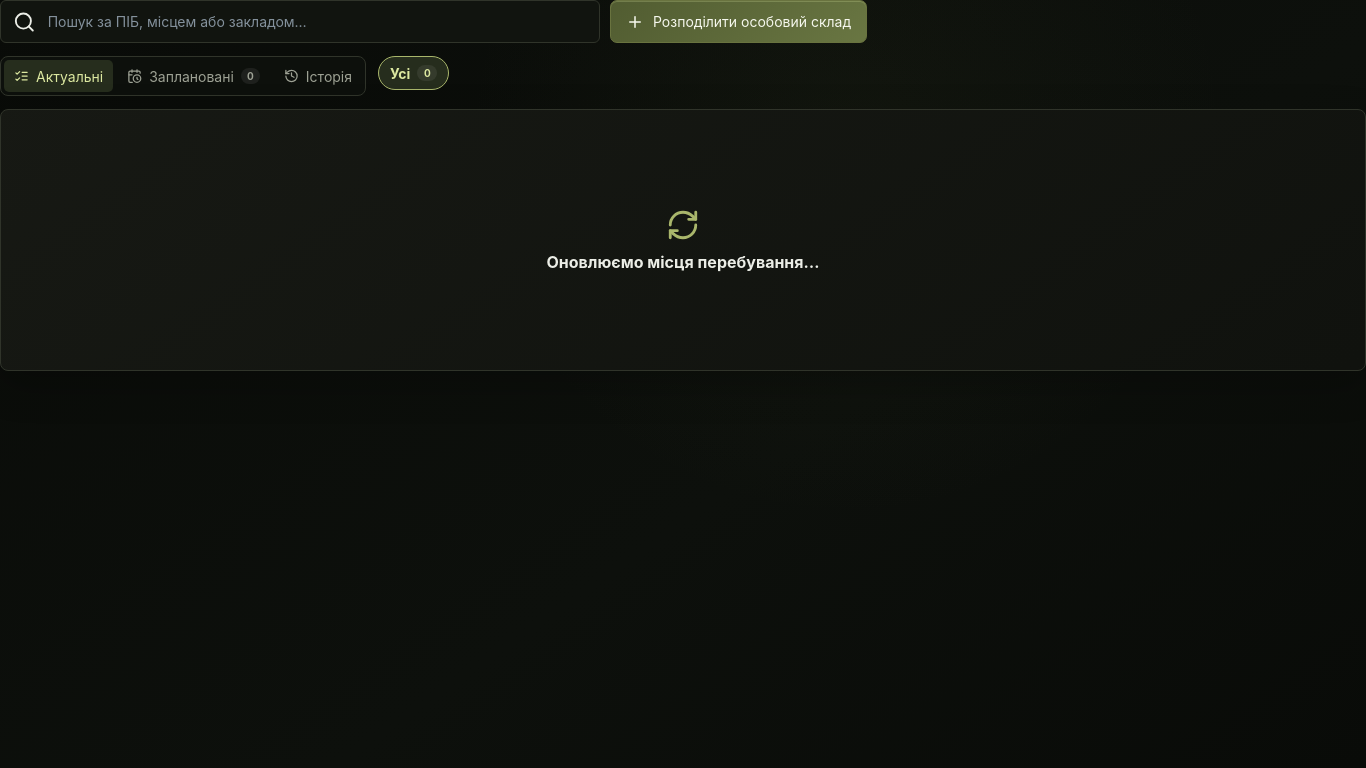
Test case: PersonnelControl › does not save training without its required completion date
Click the button "Розподілити особовий склад".
click(739, 22)  # box [610,0,867,43]
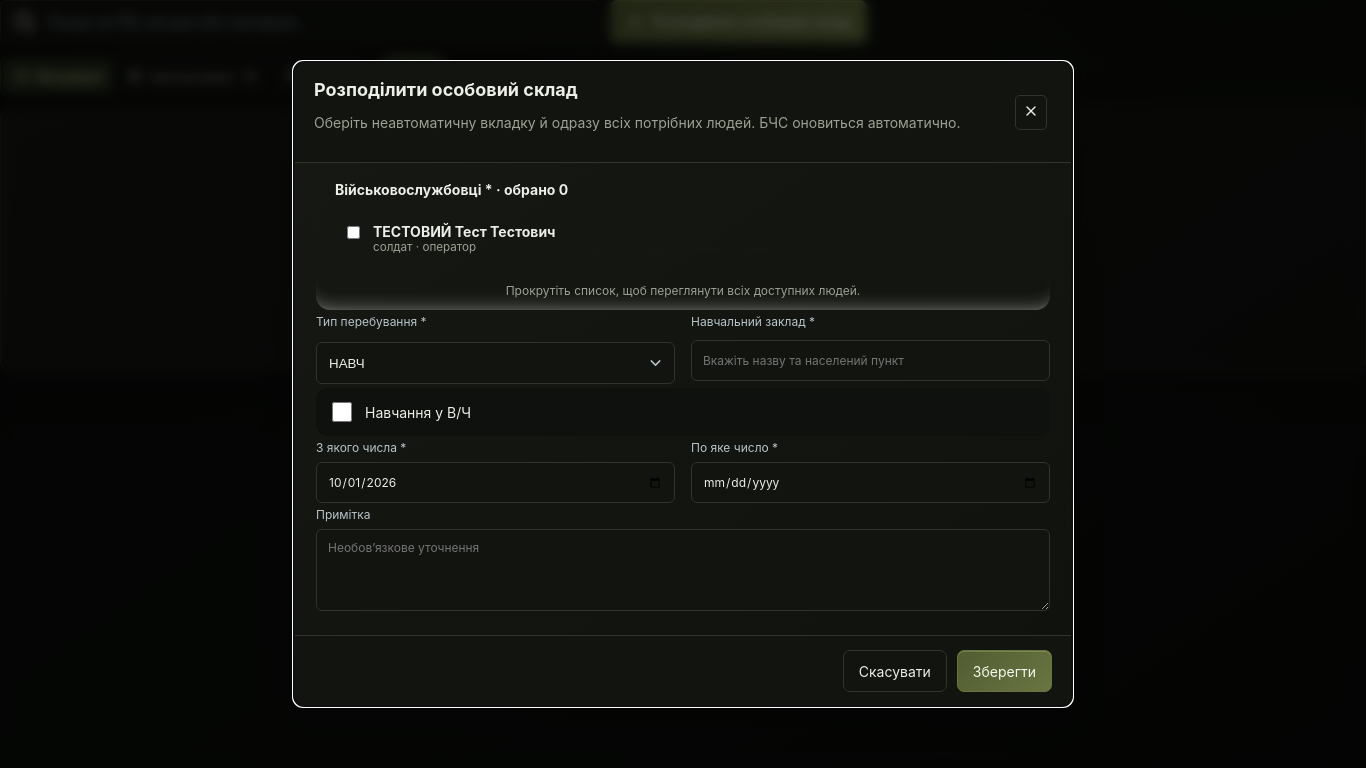
Click the checkbox labelled "ТЕСТОВИЙ Тест Тестович солдат · оператор".
click(354, 232)  # box [347,226,360,239]
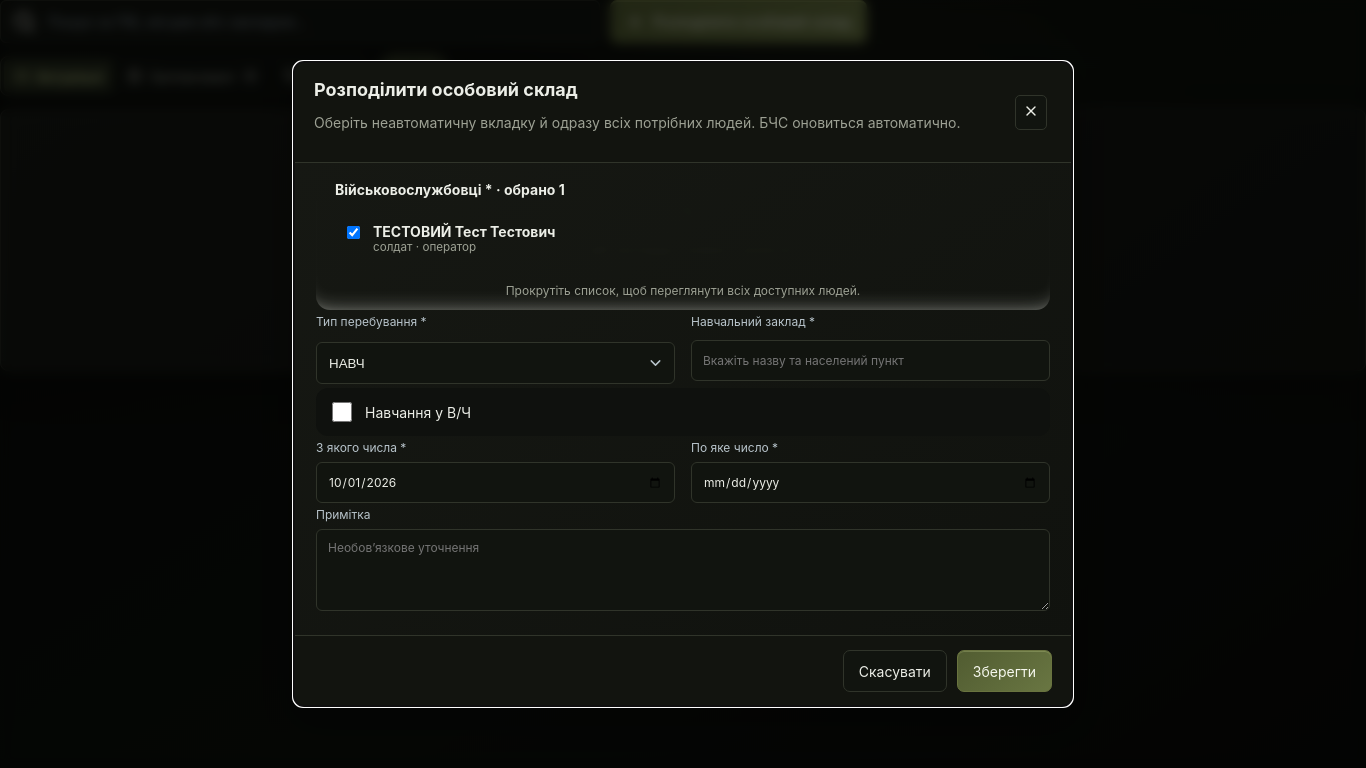
Type "Центр підготовки" into the field labelled "Навчальний заклад".
click(870, 360); type("Центр підготовки")  # box [691,340,1050,380]
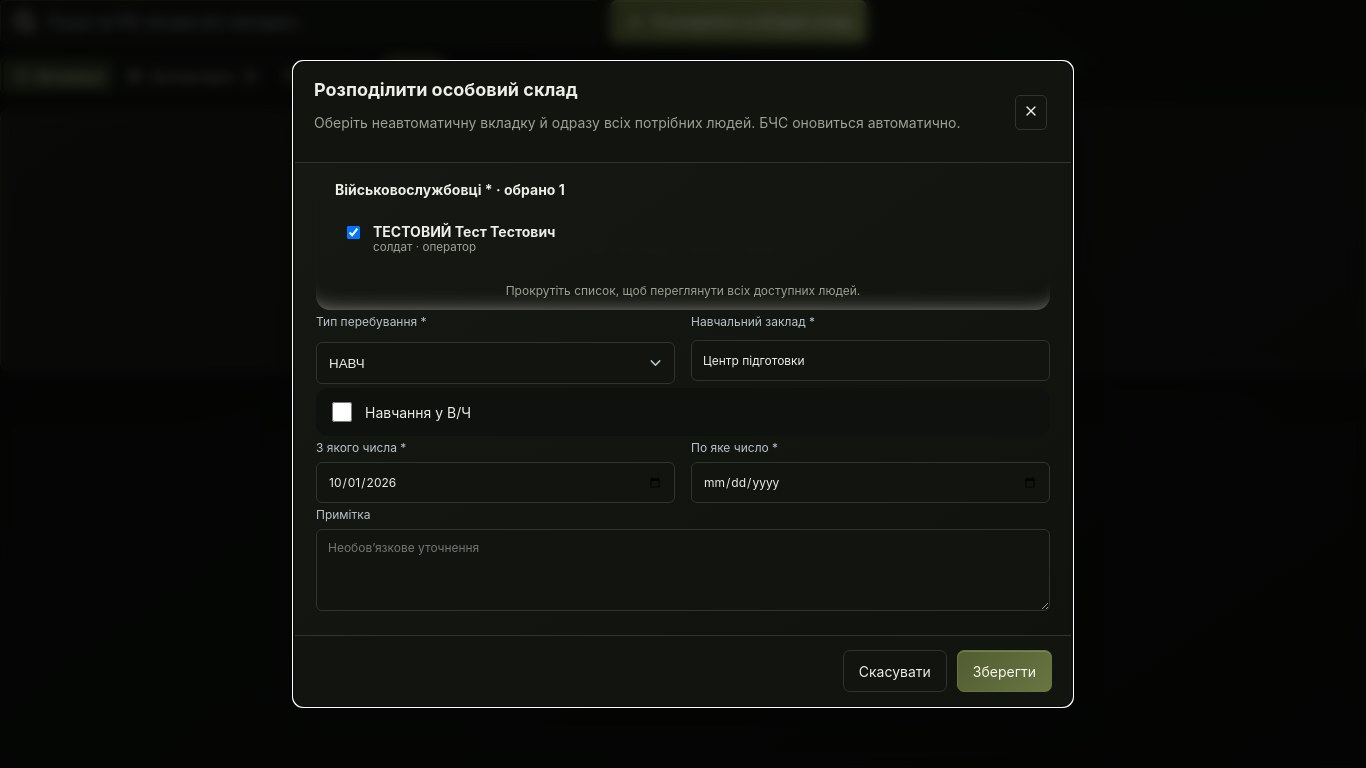
Click the button "Зберегти".
click(1004, 671)  # box [957,650,1052,692]
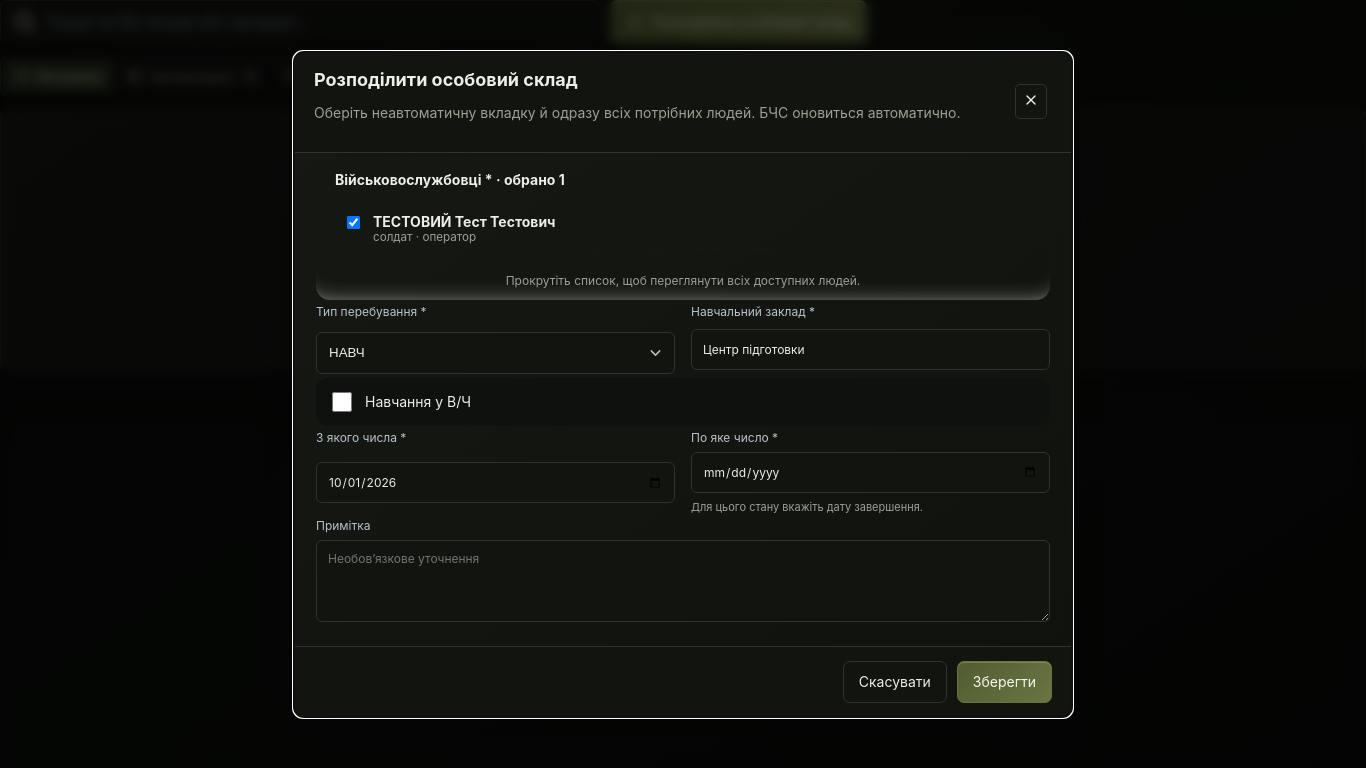
Check: the text "Для цього стану вкажіть дату завершення." is shown, box [691,500,923,514]
